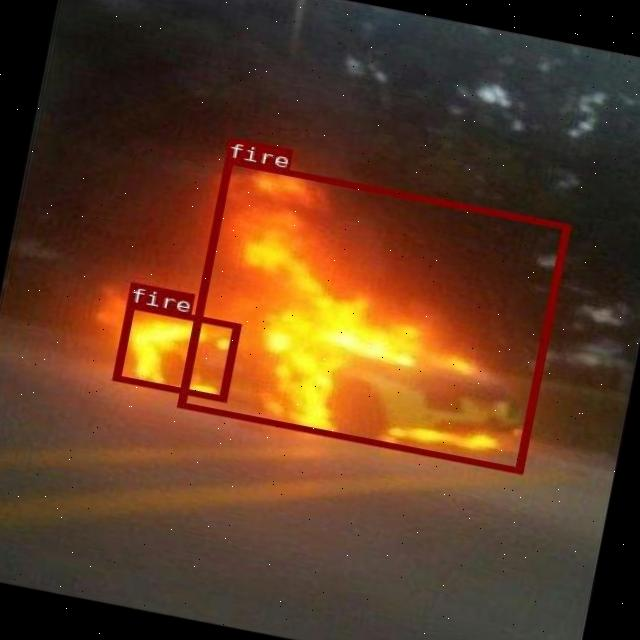fire: (177, 156, 569, 473), (112, 300, 241, 402)
